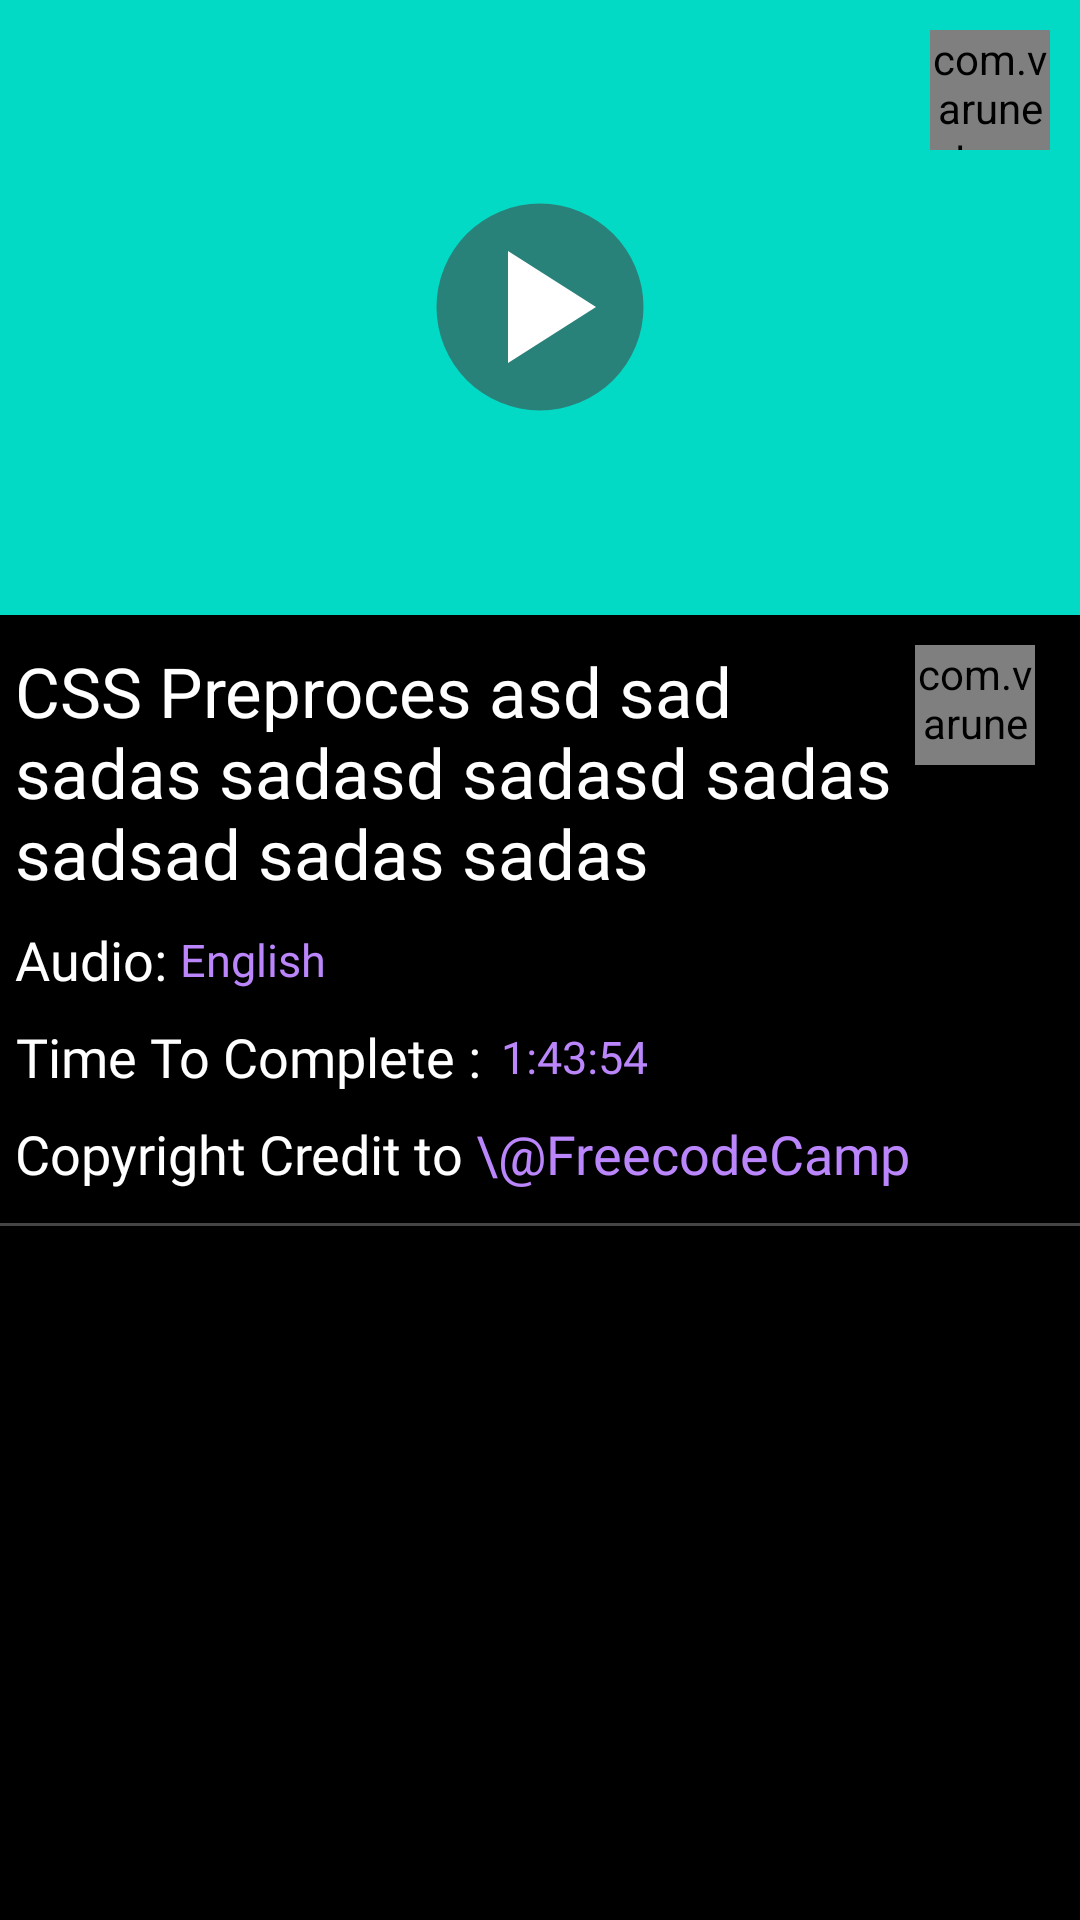

Named icons in this screenshot (1080*1920) and their bounding boxes, (x1, y1, x2, y2):
play: (436, 203, 644, 411)
